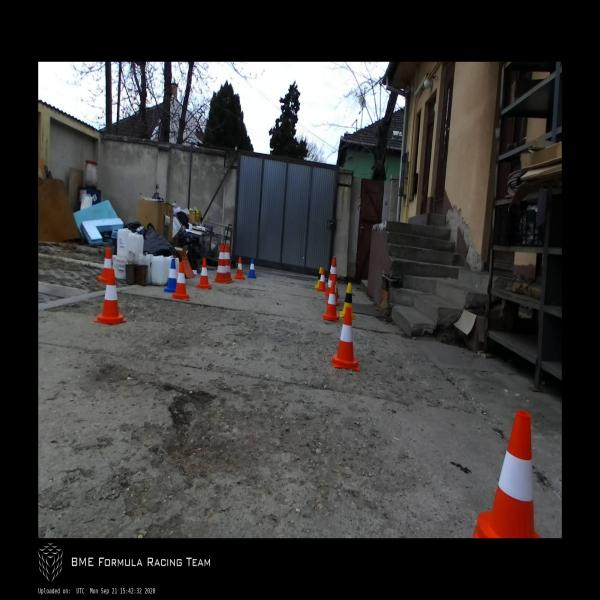blue_cone: (163, 258, 177, 293), (248, 258, 256, 278)
large_orange_cone: (212, 243, 230, 284), (325, 257, 339, 299), (224, 243, 234, 283)
orange_cone: (472, 409, 544, 538), (92, 268, 128, 324), (331, 306, 360, 372), (170, 261, 191, 300), (322, 282, 340, 322), (98, 248, 115, 281), (196, 258, 212, 290), (326, 275, 340, 306), (234, 256, 245, 280), (317, 268, 327, 292)
yellow_cone: (339, 283, 355, 320), (315, 266, 322, 288)
